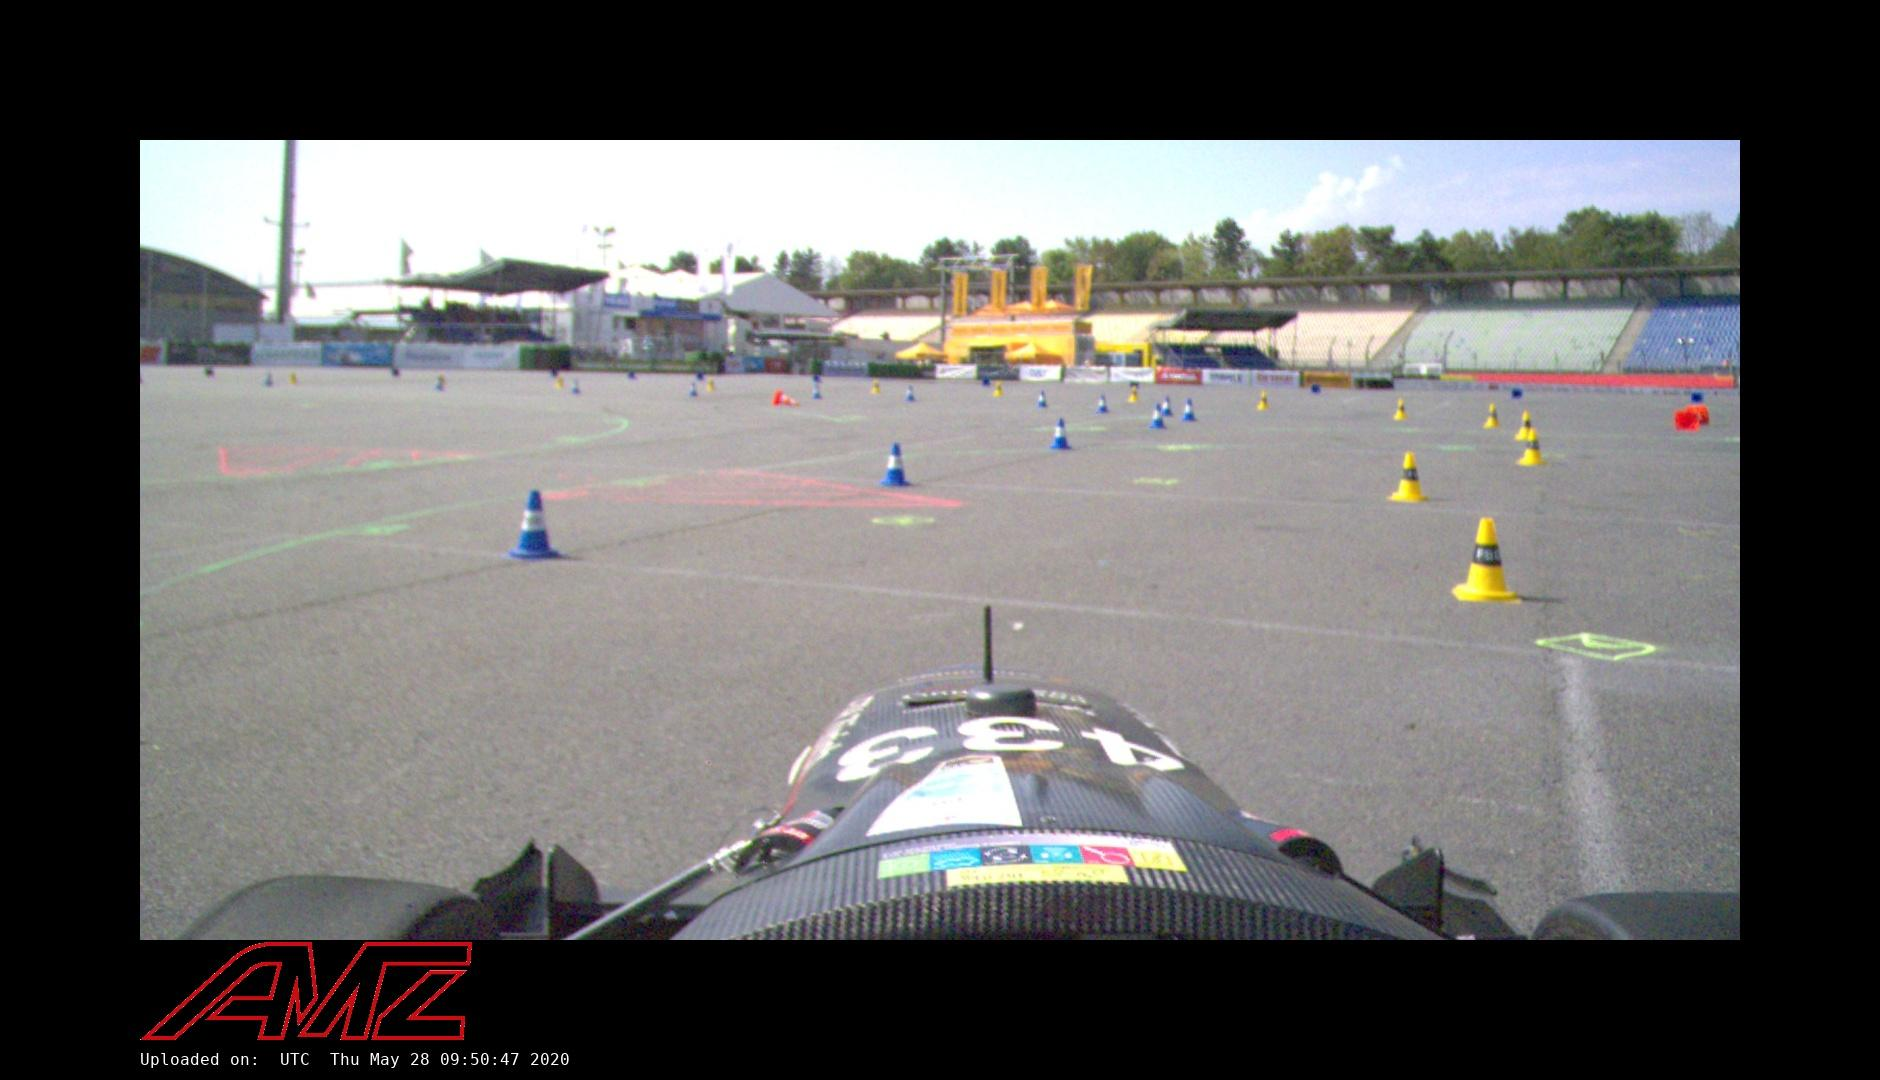blue_cone: (506, 491, 564, 559), (881, 443, 912, 487), (1048, 417, 1072, 450), (1148, 403, 1166, 430), (1180, 397, 1197, 421), (1095, 393, 1110, 413), (1161, 397, 1174, 417), (1036, 390, 1048, 408), (811, 384, 822, 400), (569, 379, 581, 394), (1690, 391, 1704, 403), (905, 385, 915, 400), (1511, 388, 1524, 399), (688, 382, 699, 397), (1311, 384, 1321, 394), (983, 379, 990, 388)
orange_cone: (1673, 410, 1701, 431), (771, 390, 801, 406), (1685, 406, 1710, 424)
yellow_cone: (1453, 519, 1518, 599), (1388, 452, 1429, 503), (1516, 429, 1546, 465), (1515, 410, 1537, 441), (1484, 404, 1503, 428), (1395, 398, 1411, 420), (1258, 391, 1271, 410), (1129, 384, 1139, 402), (705, 377, 717, 391), (870, 379, 881, 394), (554, 375, 564, 388), (994, 382, 1003, 397)
